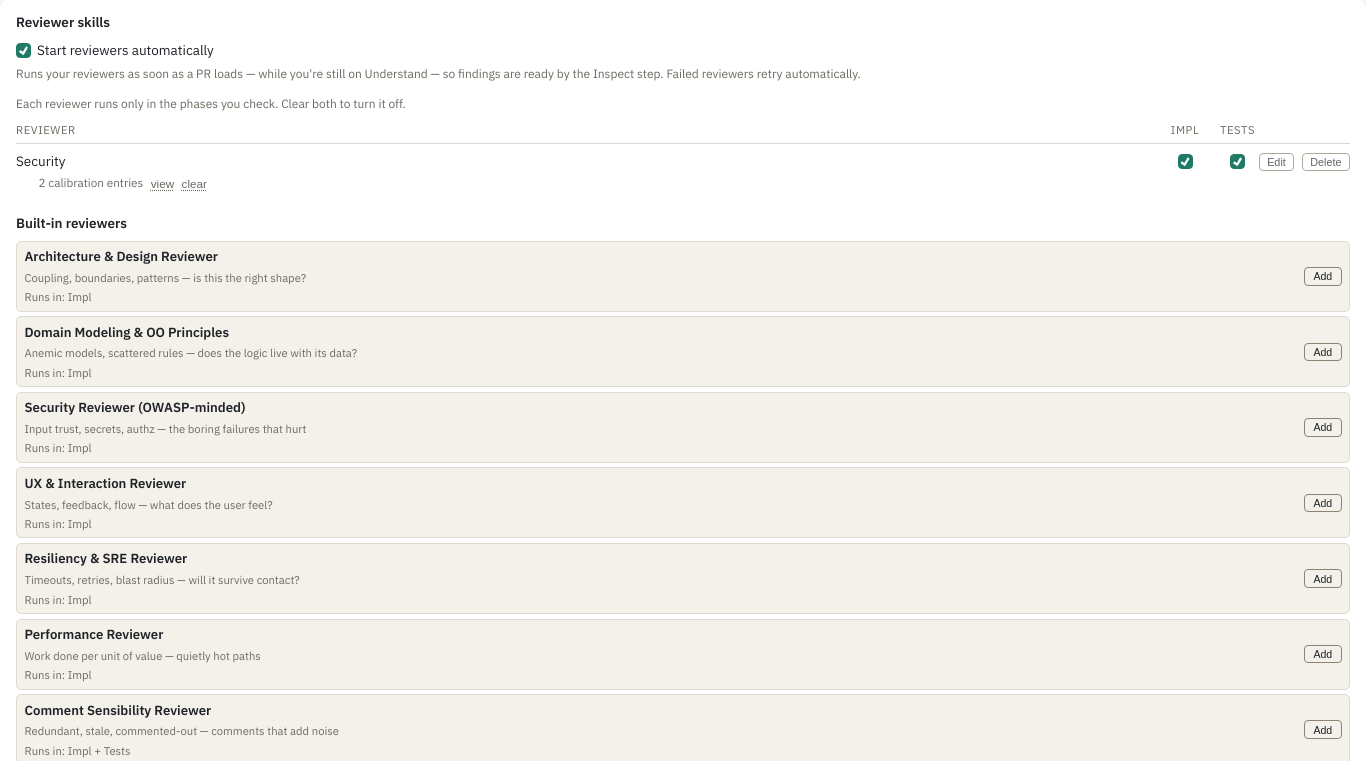
Test case: SkillsSection — dismissal-calibration surface › view discloses the entry list with reason labels and patterns
The width and height of the screenshot is (1366, 761).
Click the button with aria-label "view calibration entries" at (162, 184), box [151,177,174,190]
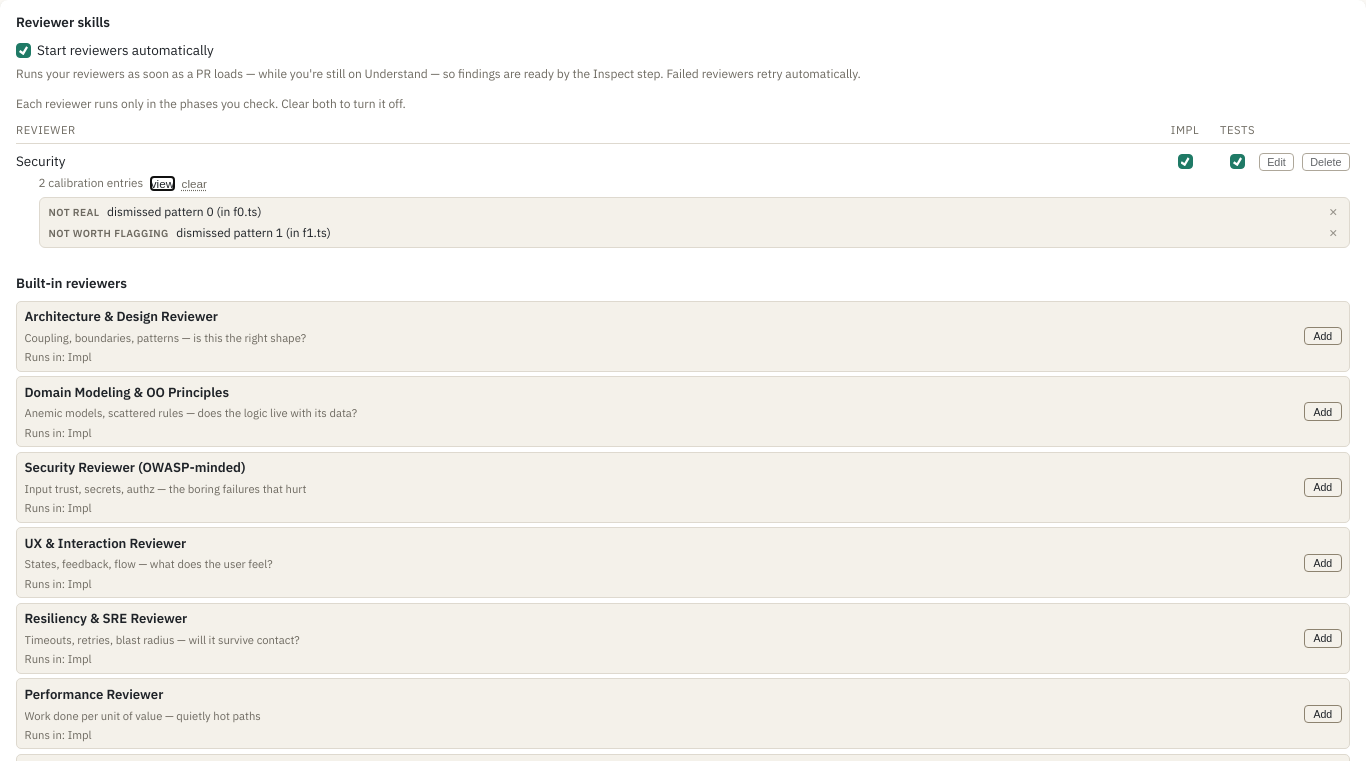
expect the list named "calibration entries for Security" shows "dismissed pattern 0": met, box [107,204,262,219]
expect the list named "calibration entries for Security" shows "dismissed pattern 1": met, box [176,225,331,240]
expect the list named "calibration entries for Security" shows "not real": met, box [48,206,100,219]
